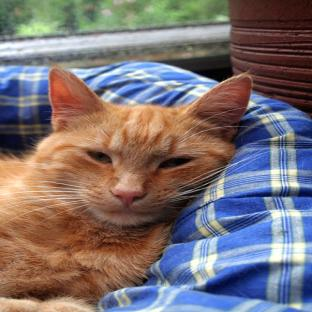Animal: (1, 67, 251, 311)
